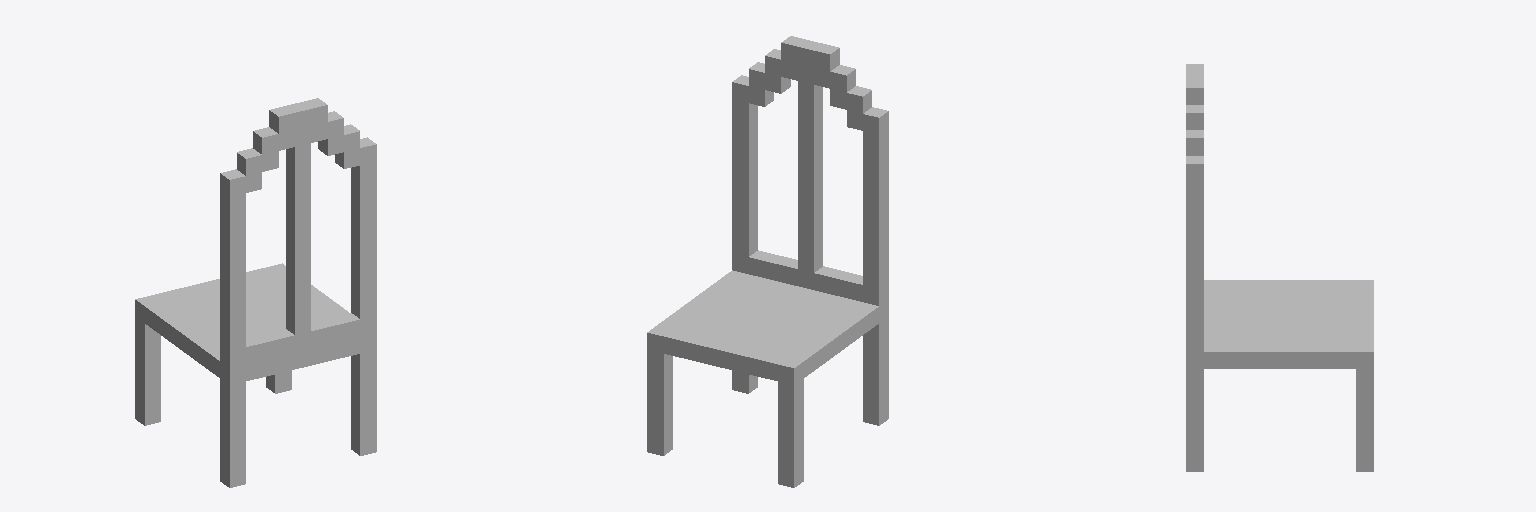
Rendered from chaise.obj.
The picture shows the model from 3 angles: view 1: azimuth 30°, elevation 25°; view 2: azimuth 150°, elevation 25°; view 3: azimuth 270°, elevation 25°; orthographic projection.
Parts seen in each view (by area): view 1: object 1; view 2: object 1; view 3: object 1.
Boxes of the visible parts, x1=… form: object 1: x1=135, y1=98, x2=376, y2=487; object 1: x1=647, y1=36, x2=888, y2=487; object 1: x1=1186, y1=64, x2=1373, y2=471.
Size of the model in its own units: 0.9 by 2.1 by 1.